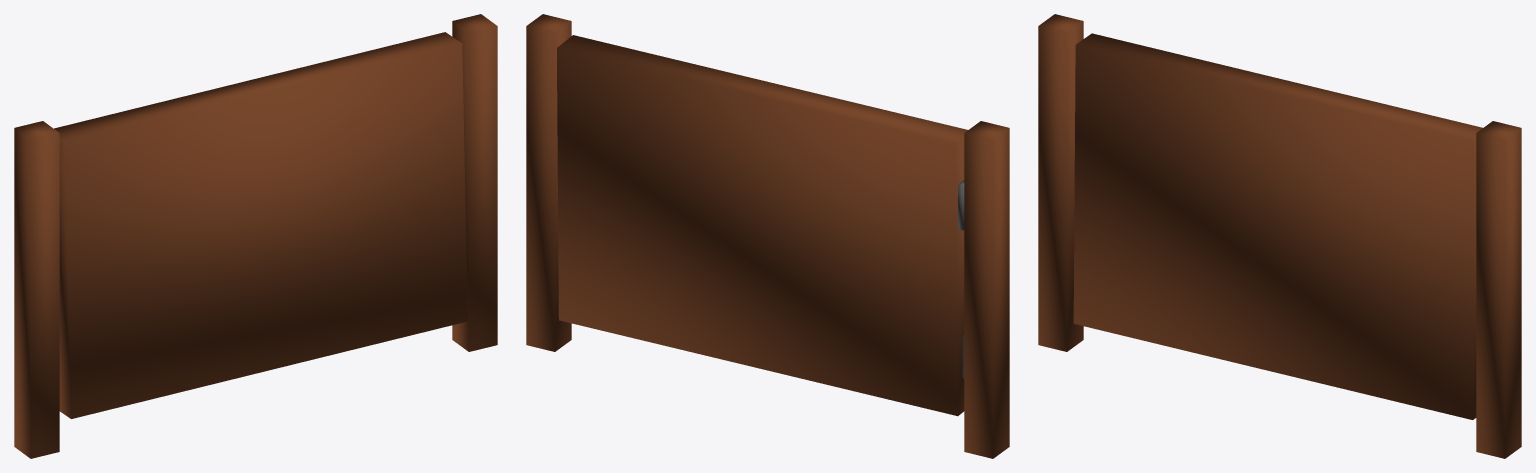
File: kalitka.fbx
3 renders of one model, left to right at view 1: azimuth 30°, elevation 25°; view 2: azimuth 150°, elevation 25°; view 3: azimuth 330°, elevation 25°, orthographic.
Parts seen in each view (by area): view 1: FenceDoor.001; view 2: FenceDoor.001; view 3: FenceDoor.001.
Boxes of the visible parts, x1,y1,x2,y2 form: FenceDoor.001: (14, 14, 497, 458); FenceDoor.001: (526, 14, 1009, 458); FenceDoor.001: (1038, 14, 1521, 458).
Bounding box in the file's own units: 333 × 26.91 × 218.
